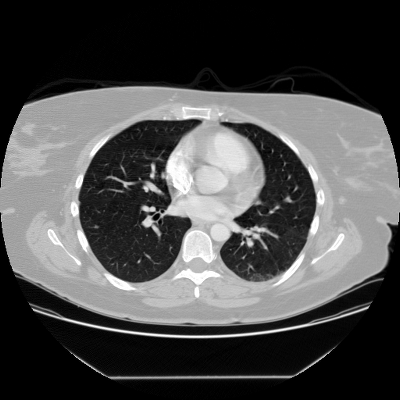nodule: (93, 223, 99, 229)
